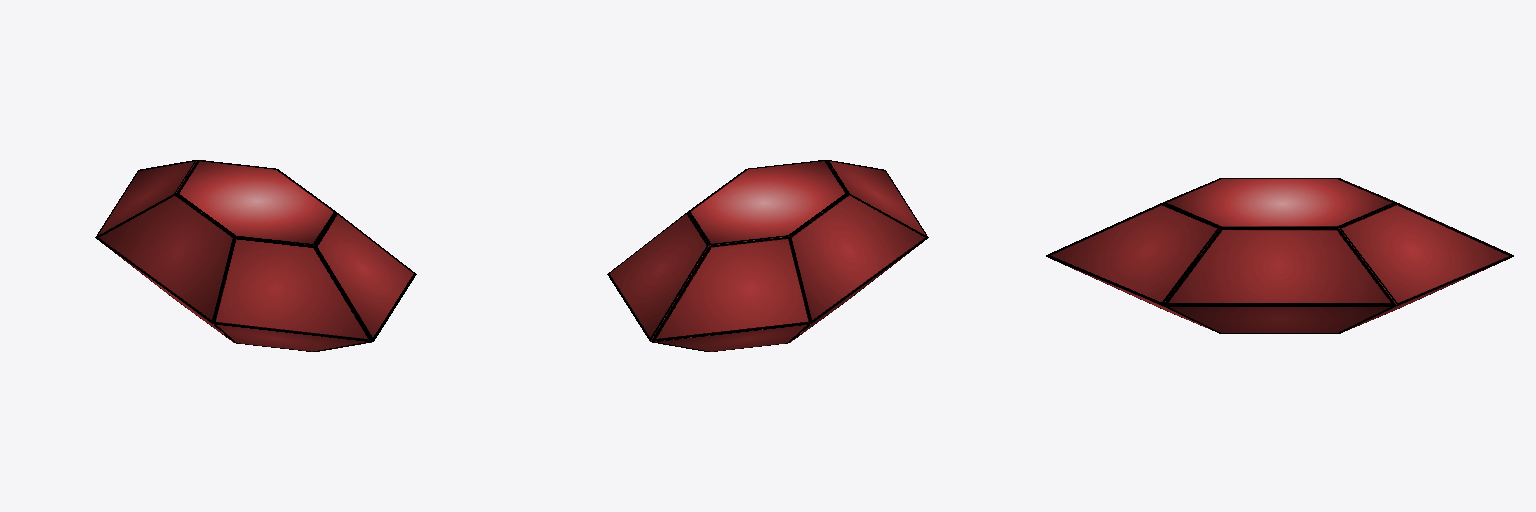
3 views of the same model, side by side, from view 1: azimuth 30°, elevation 25°; view 2: azimuth 150°, elevation 25°; view 3: azimuth 270°, elevation 25° (orthographic).
Visible parts, largest first — view 1: Cube.001; view 2: Cube.001; view 3: Cube.001.
Boxes of the visible parts, <box> form: Cube.001: <box>95,160,416,351</box>; Cube.001: <box>607,160,928,351</box>; Cube.001: <box>1046,178,1513,333</box>.
Bounding box in the file's own units: 4 × 2 × 8.
1 materials, 1 textured.